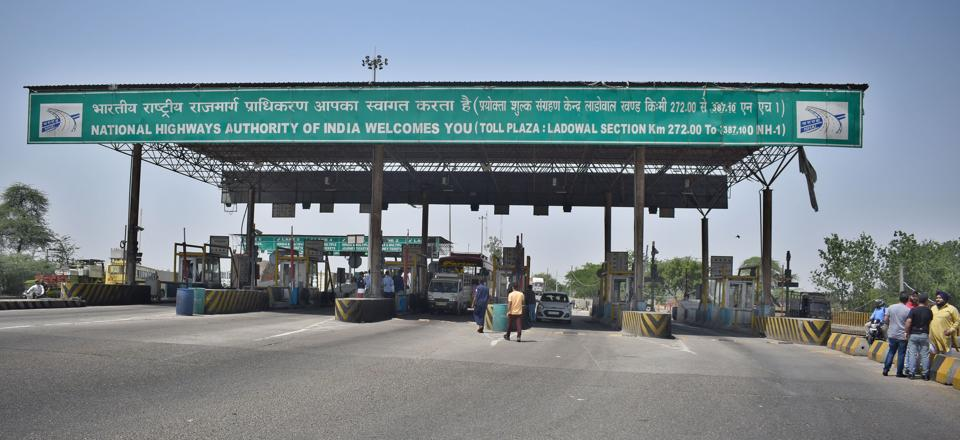toll plaza: (24, 80, 797, 155)
